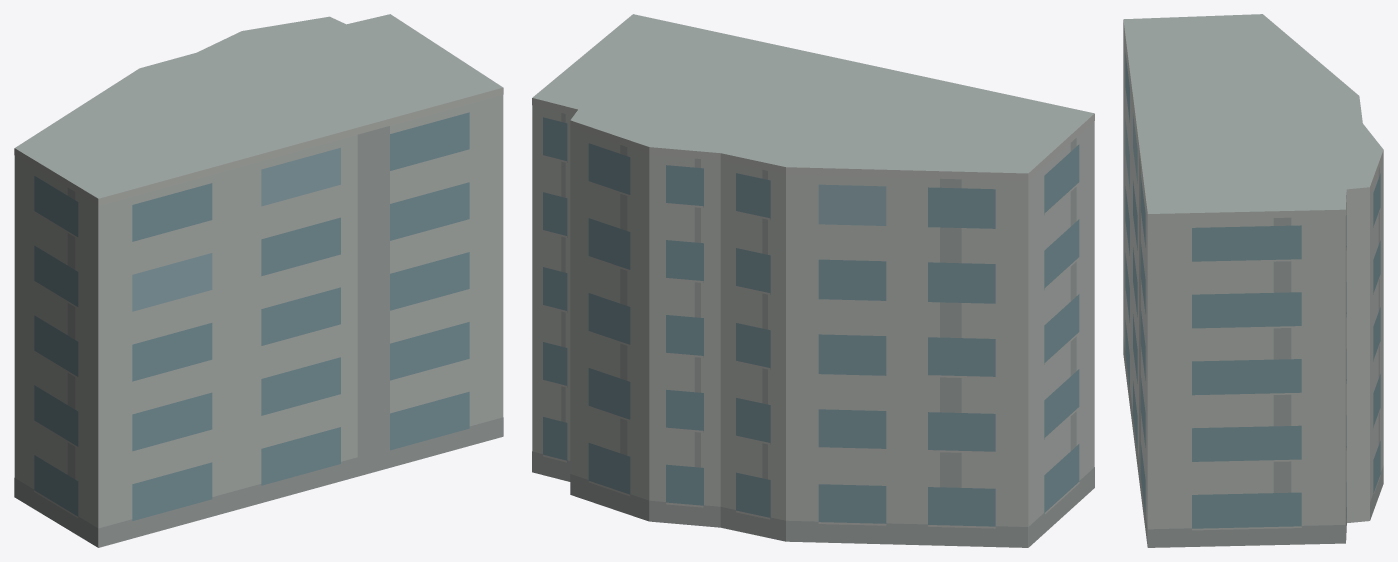
File: survey-upis-33047457.glb
3 views of the same model, side by side, from view 1: azimuth 30°, elevation 25°; view 2: azimuth 150°, elevation 25°; view 3: azimuth 270°, elevation 25° (orthographic). The views are drawn at different scales.
Visible parts, largest first — view 1: survey-upis-33047457.tmp; view 2: survey-upis-33047457.tmp; view 3: survey-upis-33047457.tmp.
Part boxes in pixels (<box>): survey-upis-33047457.tmp: <box>14,14,503,547</box>; survey-upis-33047457.tmp: <box>532,14,1094,547</box>; survey-upis-33047457.tmp: <box>1123,14,1383,547</box>.
Bounding box in the file's own units: 15.43 × 12 × 8.49.
